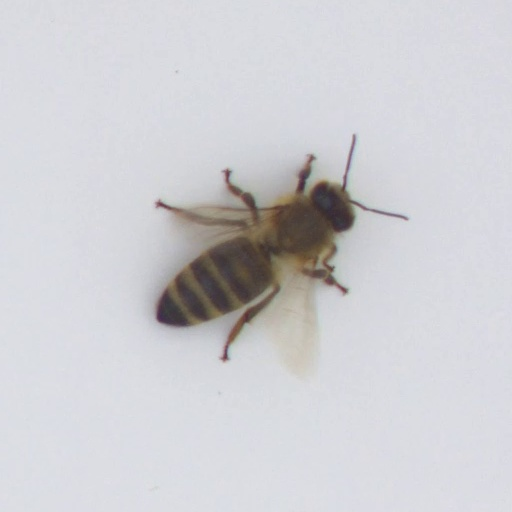Bee: (129, 174, 374, 342)
Thorax: (264, 194, 332, 257)
